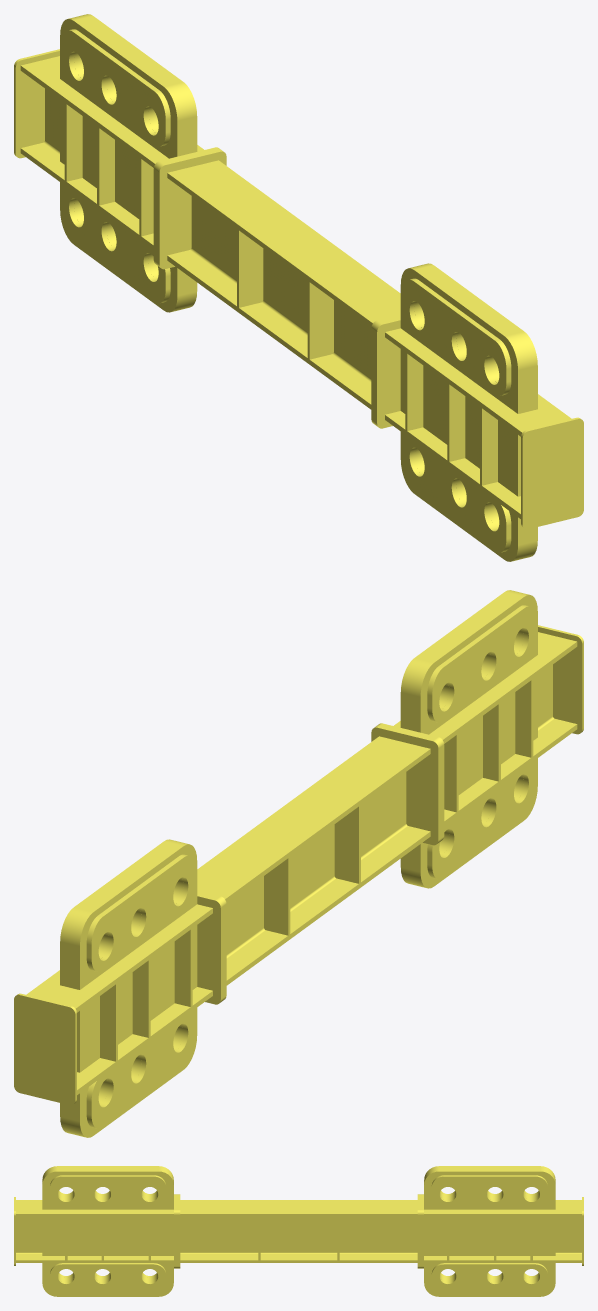
File: Ensamblaje1.glb
3 renders of one model, top to bottom at view 1: azimuth 30°, elevation 25°; view 2: azimuth 150°, elevation 25°; view 3: azimuth 270°, elevation 25°, orthographic. The views are drawn at different scales.
Parts seen in each view (by area): view 1: VIGA-1, placa 4 in-1, placa 4 in-2, Pieza4^Ensamblaje1-2, Pieza7^Ensamblaje1-3, Pieza7^Ensamblaje1-1, Pieza7^Ensamblaje1-4, Pieza7^Ensamblaje1-2, Pieza3^Ensamblaje1-2, Pieza3^Ensamblaje1-3, Pieza4^Ensamblaje1-1, Pieza6^Ensamblaje1-5 (+7 smaller); view 2: VIGA-1, placa 4 in-2, placa 4 in-1, Pieza4^Ensamblaje1-1, Pieza7^Ensamblaje1-1, Pieza7^Ensamblaje1-3, Pieza7^Ensamblaje1-2, Pieza7^Ensamblaje1-4, Pieza3^Ensamblaje1-3, Pieza3^Ensamblaje1-2, Pieza4^Ensamblaje1-2, Pieza6^Ensamblaje1-4 (+7 smaller); view 3: VIGA-1, placa 4 in-1, placa 4 in-2, Pieza7^Ensamblaje1-8, Pieza7^Ensamblaje1-6, Pieza7^Ensamblaje1-5, Pieza7^Ensamblaje1-7, Pieza3^Ensamblaje1-3, Pieza3^Ensamblaje1-2.
Boxes of the visible parts, x1,y1,x2,y2 form: VIGA-1: (20,56,571,518); placa 4 in-1: (400,263,537,561); placa 4 in-2: (60,14,197,312); Pieza4^Ensamblaje1-2: (521,417,583,529); Pieza7^Ensamblaje1-3: (402,278,511,395); Pieza7^Ensamblaje1-1: (62,29,170,146); Pieza7^Ensamblaje1-4: (402,437,511,552); Pieza7^Ensamblaje1-2: (62,187,170,303); Pieza3^Ensamblaje1-2: (153,147,226,269); Pieza3^Ensamblaje1-3: (371,314,400,428); Pieza4^Ensamblaje1-1: (14,49,59,158); Pieza6^Ensamblaje1-5: (307,281,333,359); VIGA-1: (26,632,577,1094); placa 4 in-2: (60,839,197,1137); placa 4 in-1: (400,590,537,888); Pieza4^Ensamblaje1-1: (14,993,76,1105); Pieza7^Ensamblaje1-1: (86,854,195,971); Pieza7^Ensamblaje1-3: (427,605,535,722); Pieza7^Ensamblaje1-2: (86,1013,195,1128); Pieza7^Ensamblaje1-4: (427,763,535,879); Pieza3^Ensamblaje1-3: (371,723,444,845); Pieza3^Ensamblaje1-2: (197,890,226,1004); Pieza4^Ensamblaje1-2: (538,625,583,734); Pieza6^Ensamblaje1-4: (264,857,290,935); VIGA-1: (16,1200,581,1262); placa 4 in-1: (42,1166,173,1296); placa 4 in-2: (424,1166,555,1296); Pieza7^Ensamblaje1-8: (50,1263,166,1294); Pieza7^Ensamblaje1-6: (431,1263,547,1294); Pieza7^Ensamblaje1-5: (431,1175,547,1206); Pieza7^Ensamblaje1-7: (50,1175,166,1206); Pieza3^Ensamblaje1-3: (174,1194,180,1268); Pieza3^Ensamblaje1-2: (417,1194,423,1268).
Size of the model in its own units: 0.3448 by 1.1 by 4.53.
